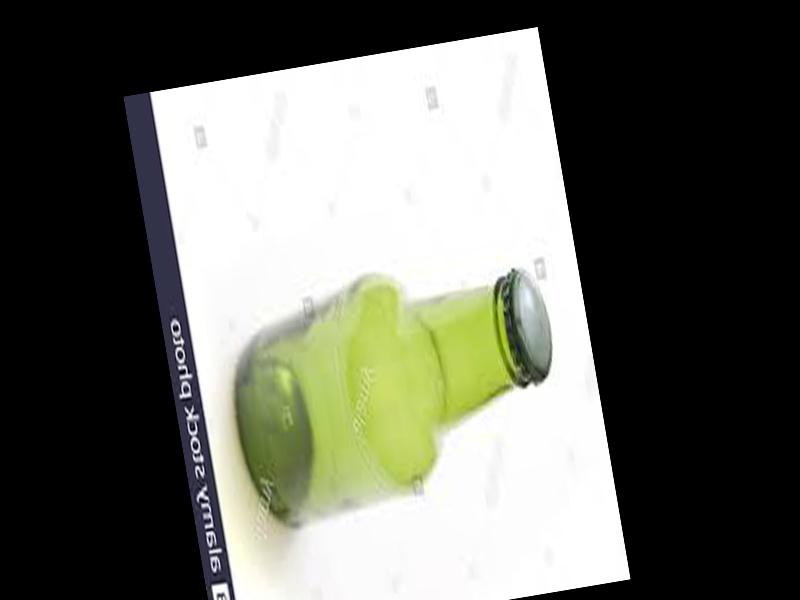Beer: (220, 263, 575, 532)
